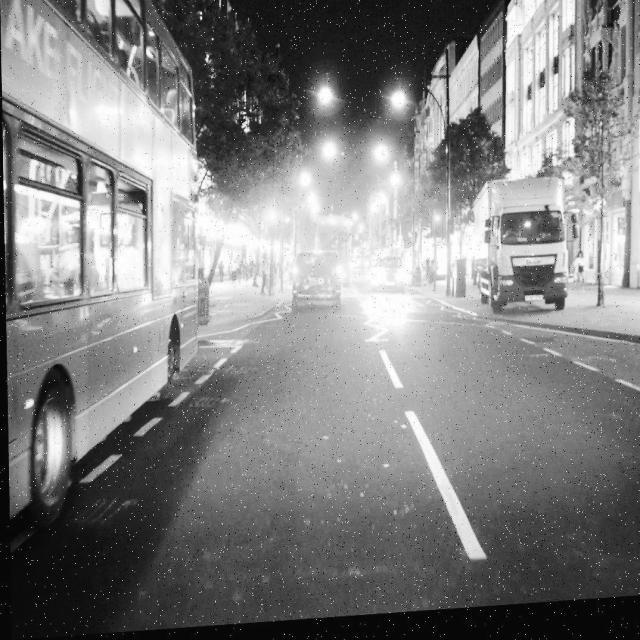Truck: (470, 183, 568, 323)
